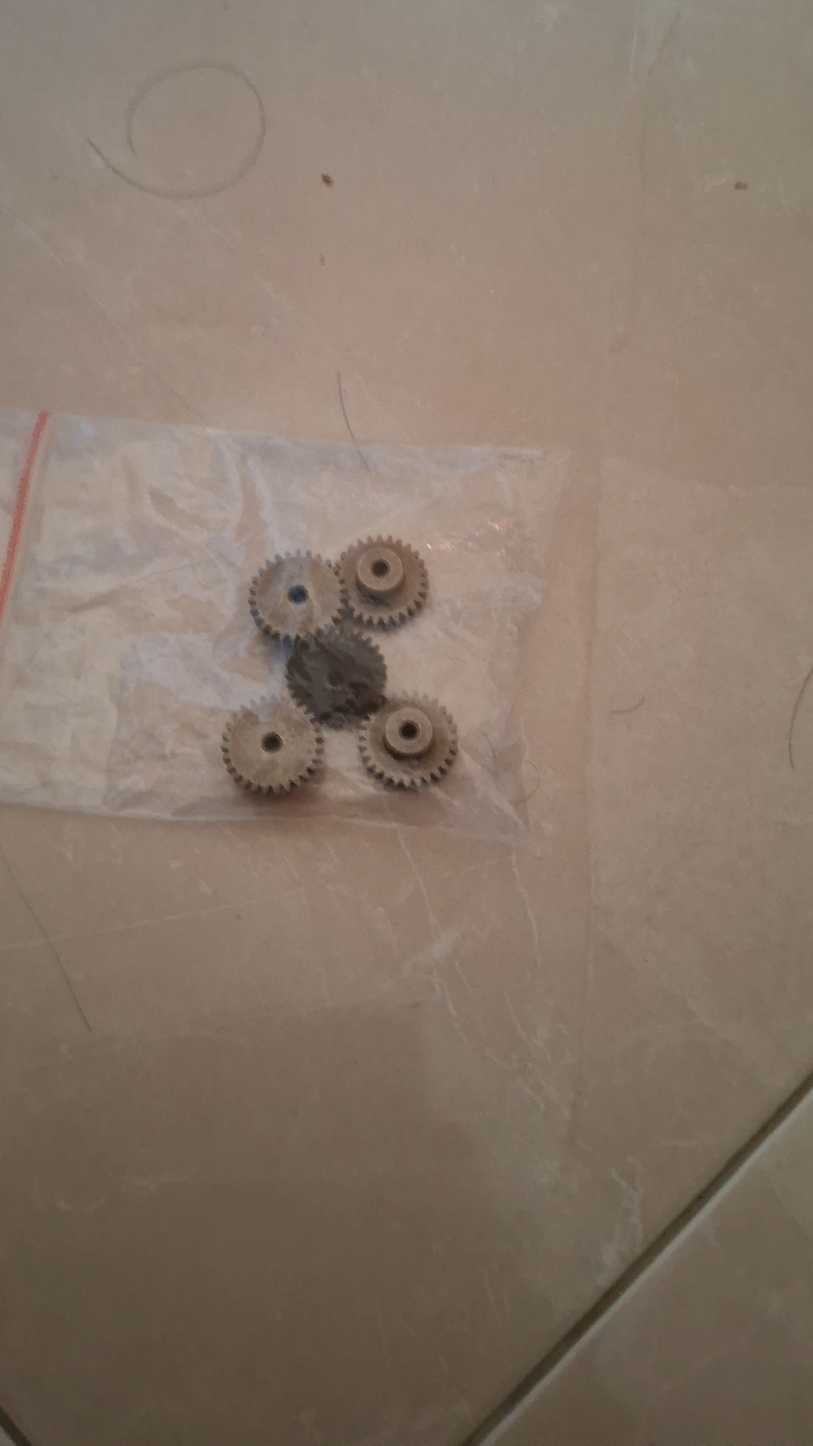spur gear: (221, 696, 323, 794), (286, 628, 386, 726), (359, 696, 457, 787), (336, 537, 428, 627), (249, 554, 340, 641)
